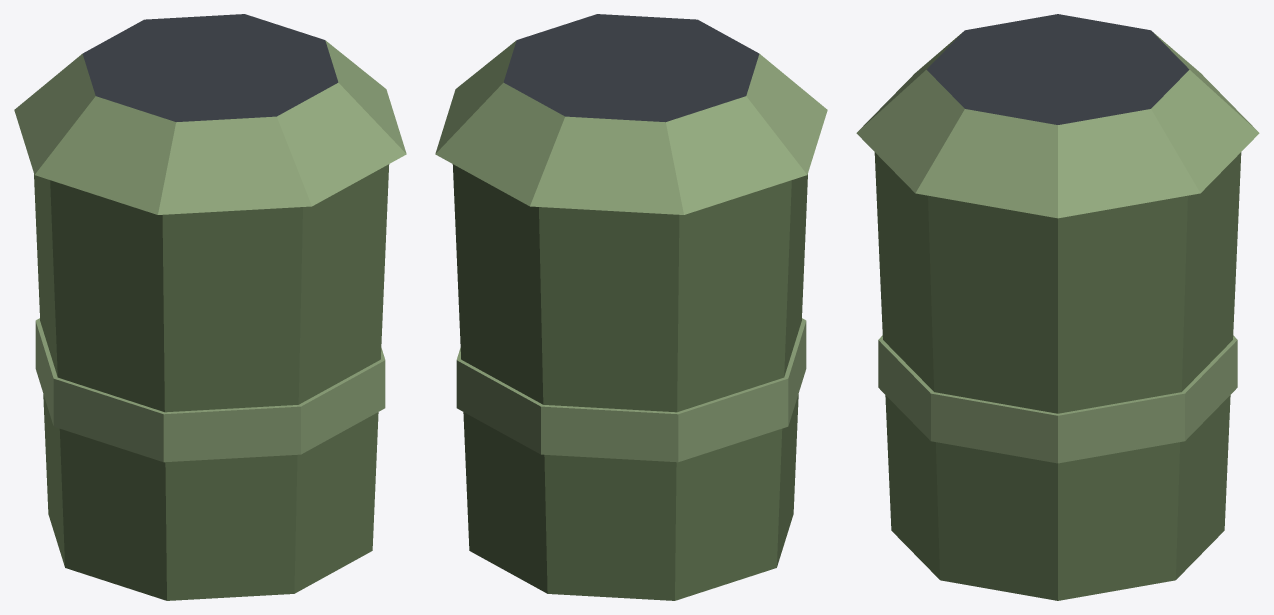
The model's file is P_Bin2.fbx.
3 views of the same model, side by side, from view 1: azimuth 30°, elevation 25°; view 2: azimuth 150°, elevation 25°; view 3: azimuth 270°, elevation 25° (orthographic).
Visible parts, largest first — view 1: P_Bin2; view 2: P_Bin2; view 3: P_Bin2.
Part boxes in pixels (<box>): P_Bin2: <box>14,14,406,600</box>; P_Bin2: <box>435,14,827,600</box>; P_Bin2: <box>856,14,1259,600</box>.
Bounding box in the file's own units: 0.46 × 0.58 × 0.46.
